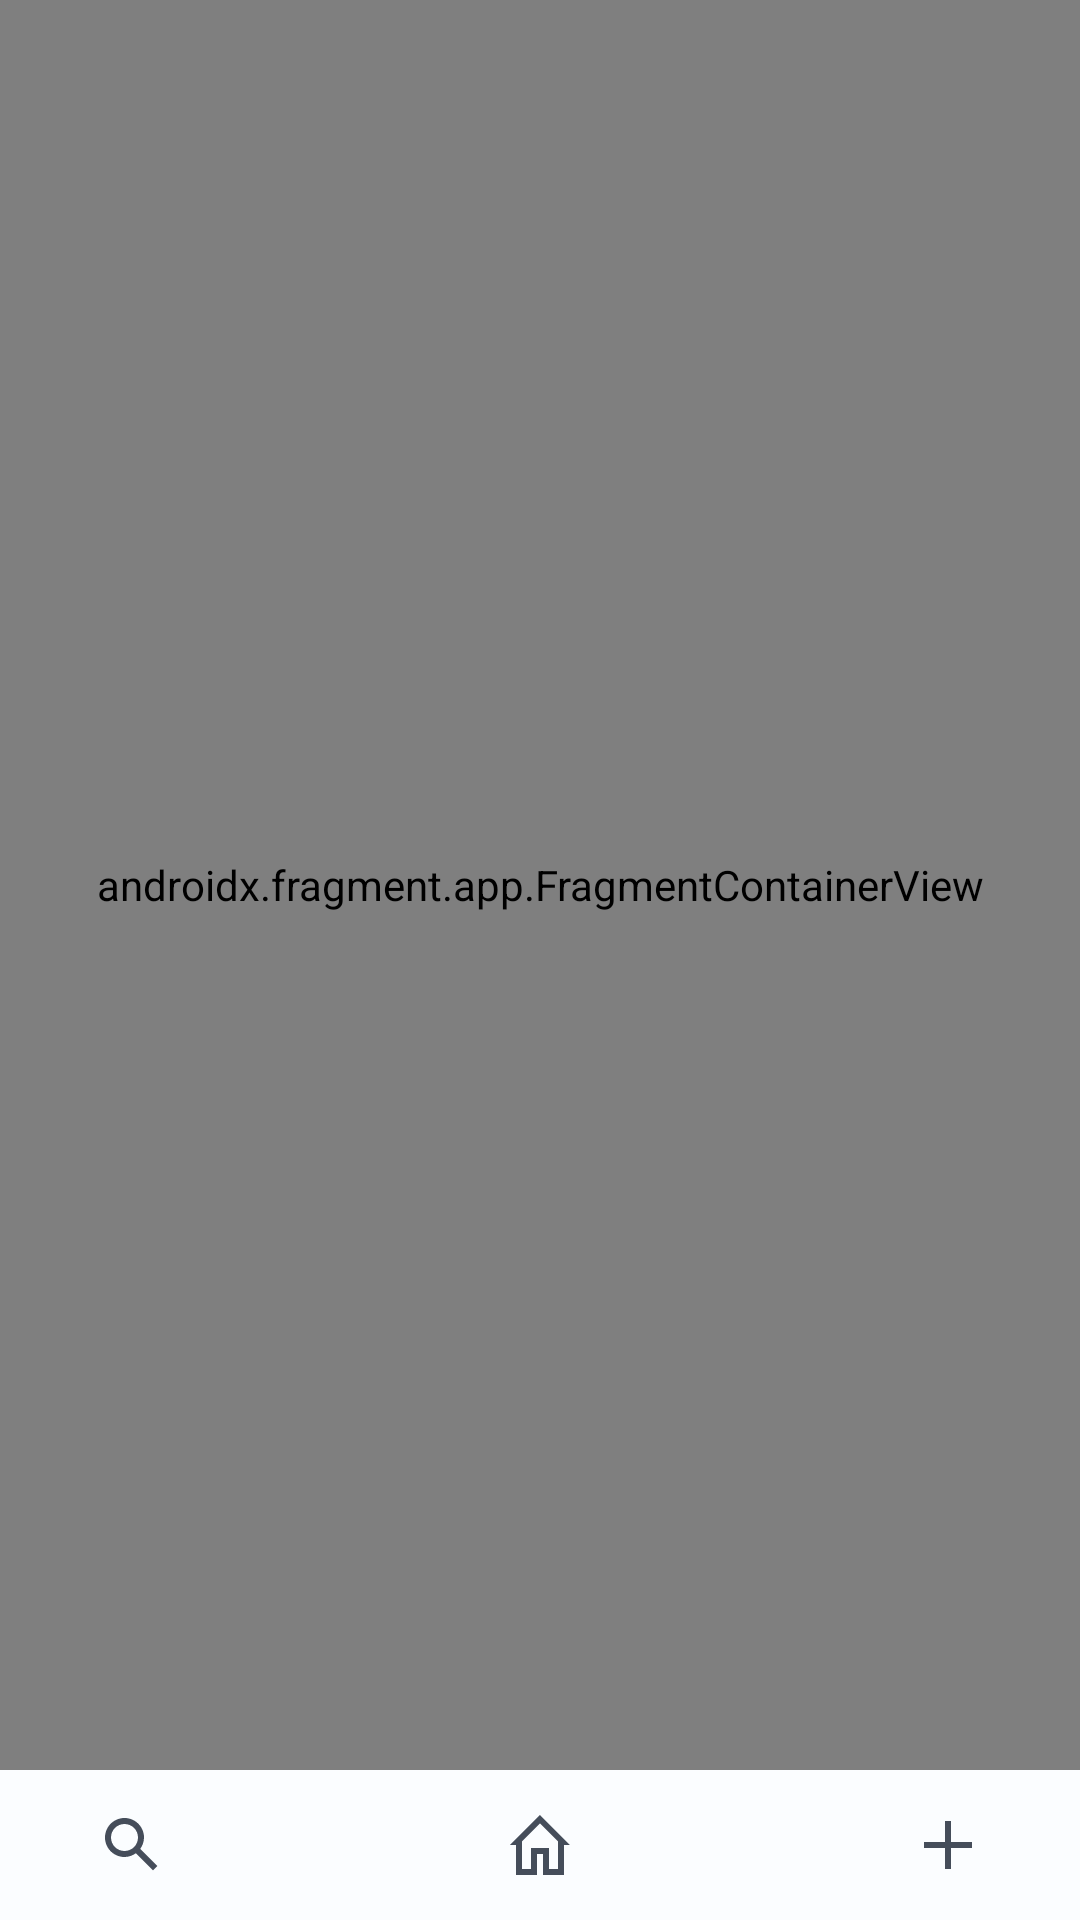

Screen size 1080*1920. Icon name, then its center in pixels as (x,y):
add: (948,1845)
home: (540,1845)
search: (131,1844)
